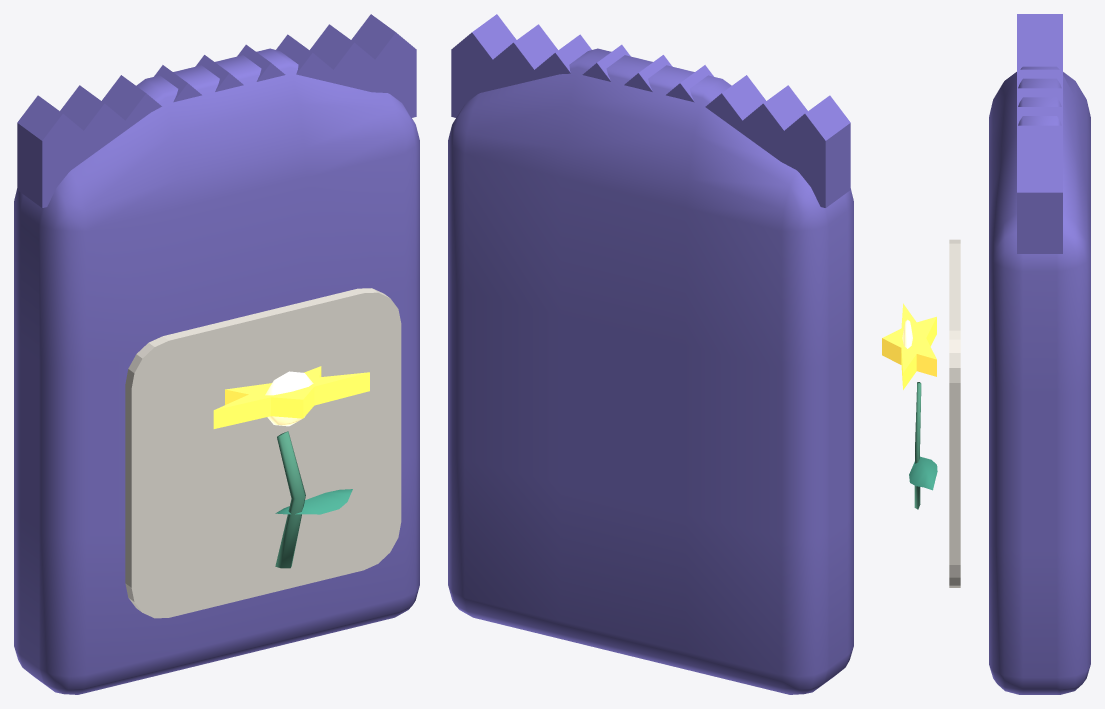
Rendered from semente-estrela-trepadeira.glb.
3 views of the same model, side by side, from view 1: azimuth 30°, elevation 25°; view 2: azimuth 150°, elevation 25°; view 3: azimuth 270°, elevation 25° (orthographic). The views are drawn at different scales.
Visible parts, largest first — view 1: semente-estrela-trepadeira; view 2: semente-estrela-trepadeira; view 3: semente-estrela-trepadeira.
Part boxes in pixels (x1=…): semente-estrela-trepadeira: x1=14, y1=14, x2=419, y2=694; semente-estrela-trepadeira: x1=448, y1=14, x2=853, y2=694; semente-estrela-trepadeira: x1=882, y1=14, x2=1090, y2=694.
Bounding box in the file's own units: 0.14 × 0.208 × 0.0738.
